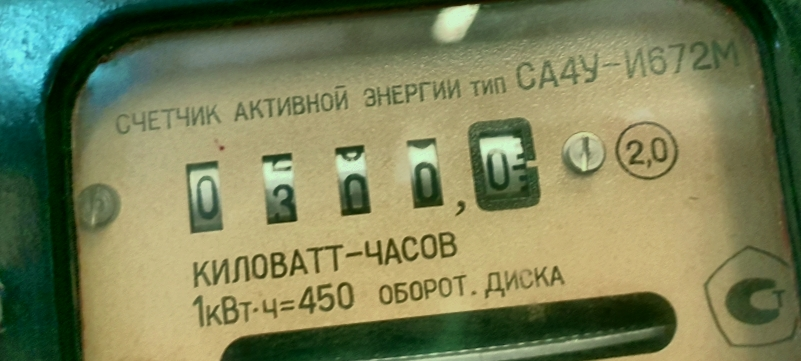0: (338, 167, 371, 218), (191, 169, 222, 223), (408, 158, 442, 207), (482, 144, 514, 195)
3: (267, 178, 299, 224)
screen: (161, 108, 551, 254)
